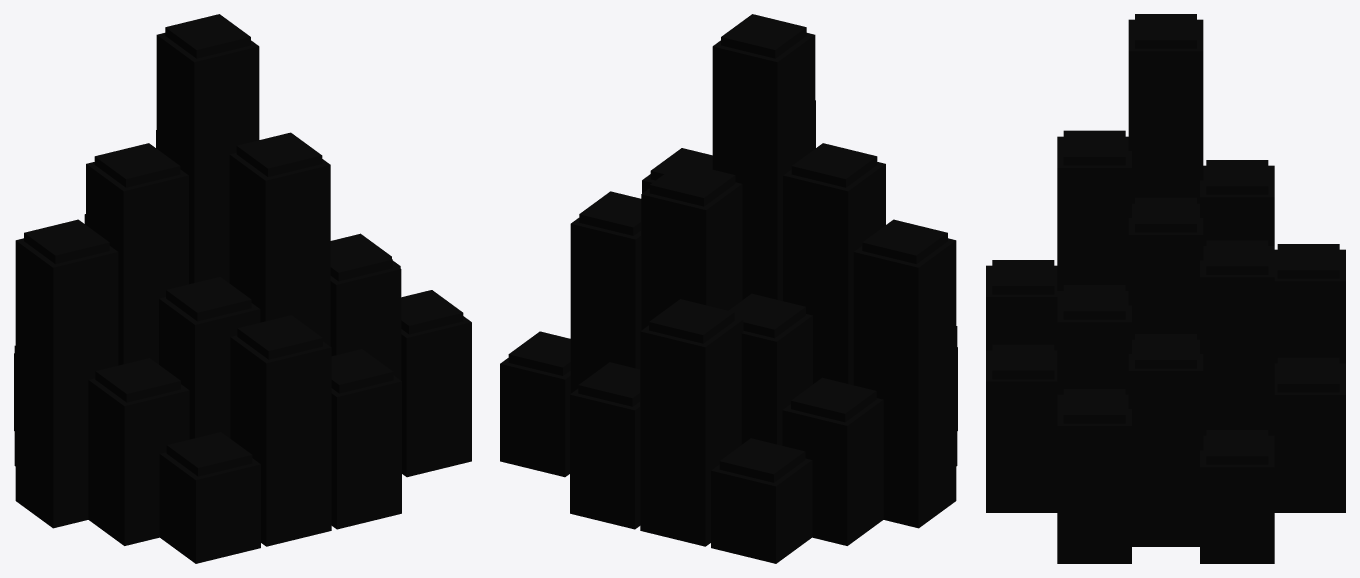
The model's file is BasaltColumns.obj.
The picture shows the model from 3 angles, left to right: view 1: azimuth 30°, elevation 25°; view 2: azimuth 150°, elevation 25°; view 3: azimuth 270°, elevation 25°; orthographic projection.
Parts seen in each view (by area): view 1: BasaltColumns; view 2: BasaltColumns; view 3: BasaltColumns.
Boxes of the visible parts, x1,y1,x2,y2 form: BasaltColumns: [14, 14, 471, 563]; BasaltColumns: [500, 14, 957, 563]; BasaltColumns: [986, 14, 1345, 563].
Bounding box in the file's own units: 14.1 × 15.5 × 11.6.
